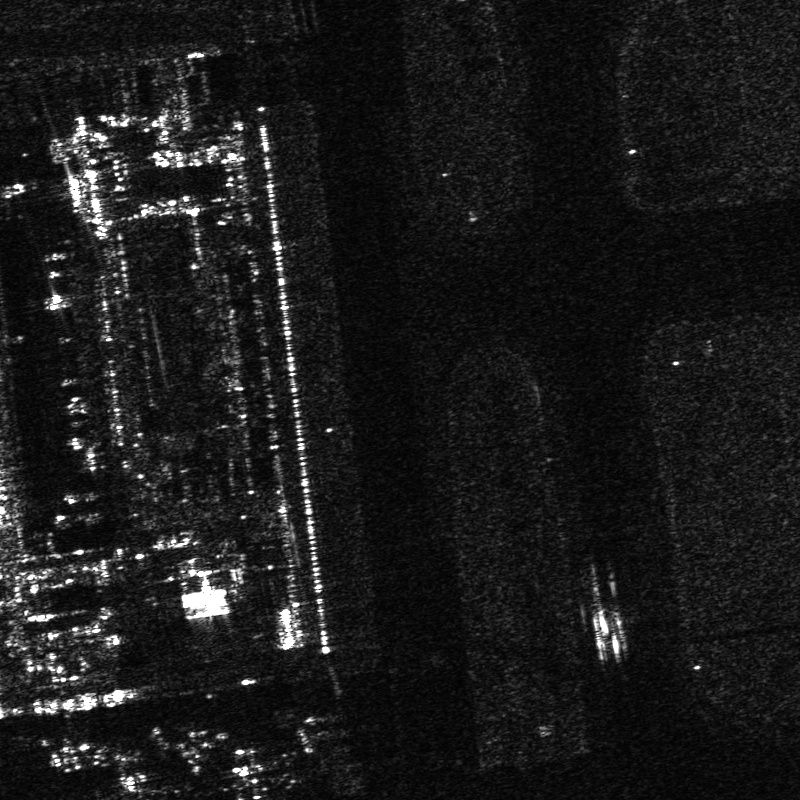Boeing787: (205, 739, 296, 799)
